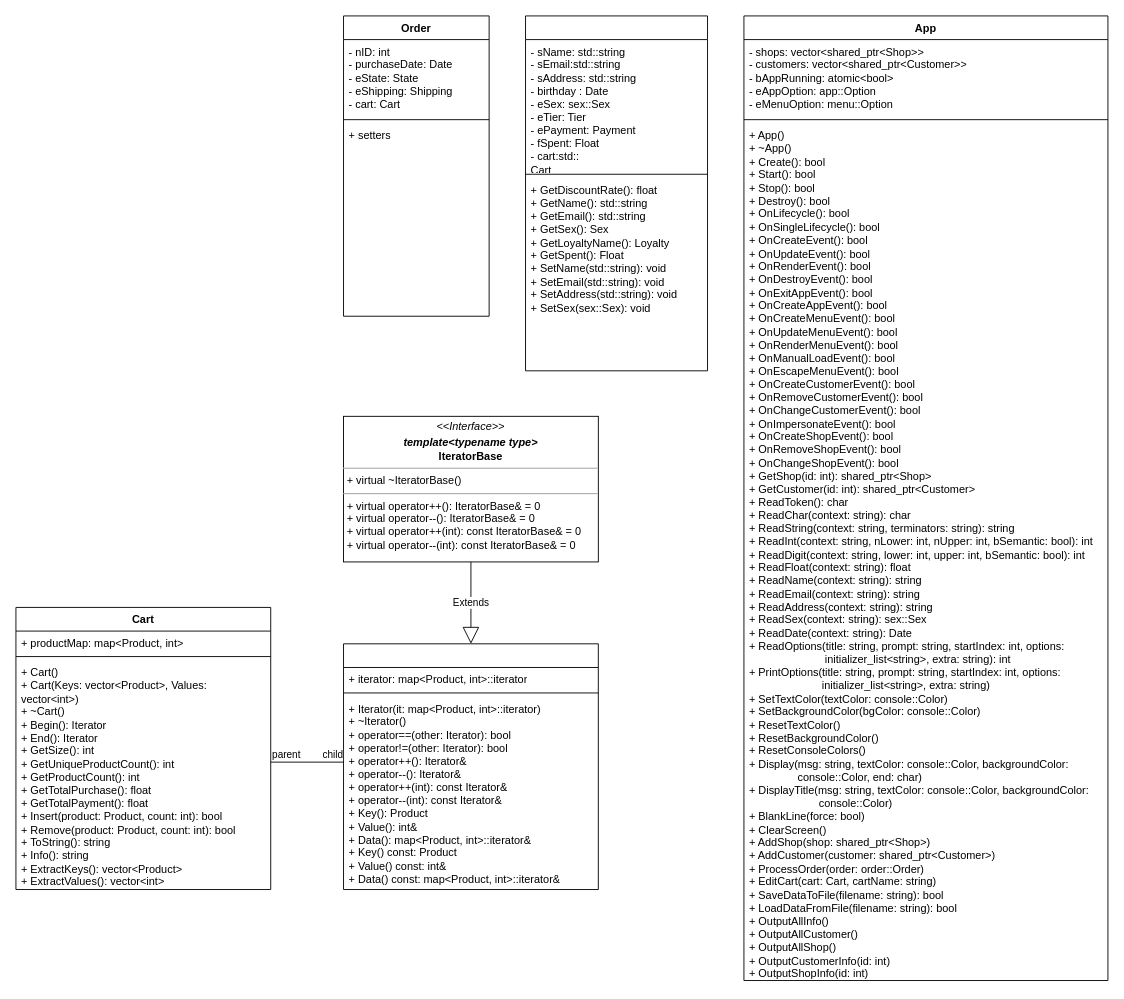
Some shapes in this 1124 by 999 pixel diagram are drawn without their labels. The box of each missing label's shape, as (x1, y1, x2, y2) in pixels:
Cart::Iterator: (343, 643, 598, 890)
Customer: (525, 15, 708, 371)
